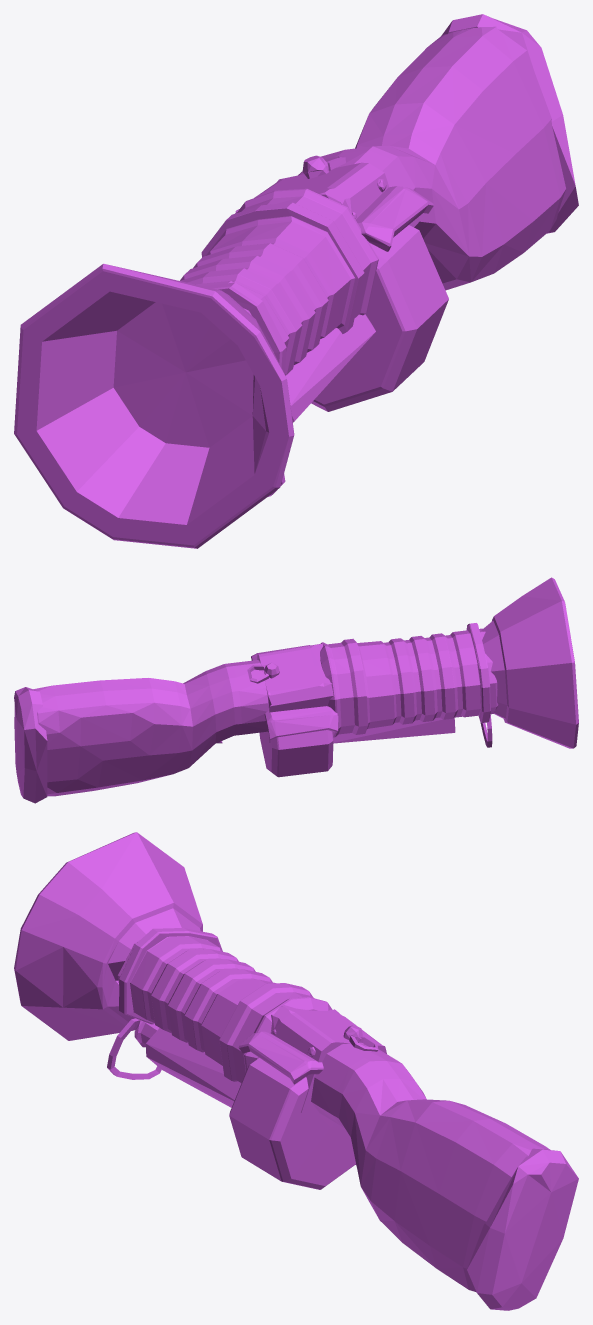
File: meowverse_gun.glb
The picture shows the model from 3 angles, top to bottom: view 1: azimuth 30°, elevation 25°; view 2: azimuth 150°, elevation 25°; view 3: azimuth 270°, elevation 25°; orthographic projection. The views are drawn at different scales.
Parts seen in each view (by area): view 1: agarre_low.001; view 2: agarre_low.001; view 3: agarre_low.001.
Boxes of the visible parts, left/top/right/bottom form: agarre_low.001: left=14, top=14, right=578, bottom=548; agarre_low.001: left=14, top=577, right=578, bottom=803; agarre_low.001: left=14, top=832, right=578, bottom=1310.
Size of the model in its own units: 1.45 by 0.5832 by 1.26.
